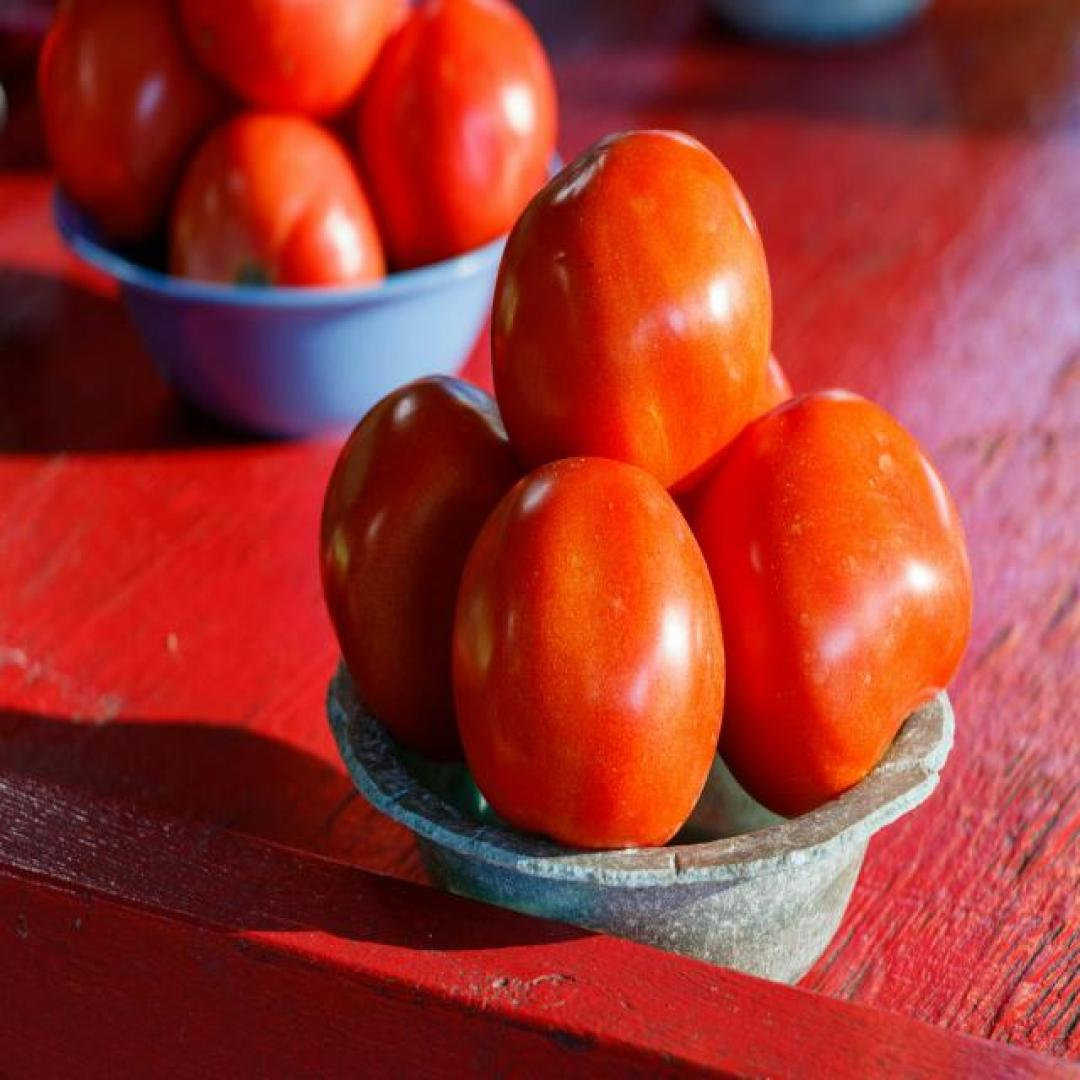matang: (675, 385, 975, 815), (452, 460, 729, 860), (488, 125, 773, 503)
